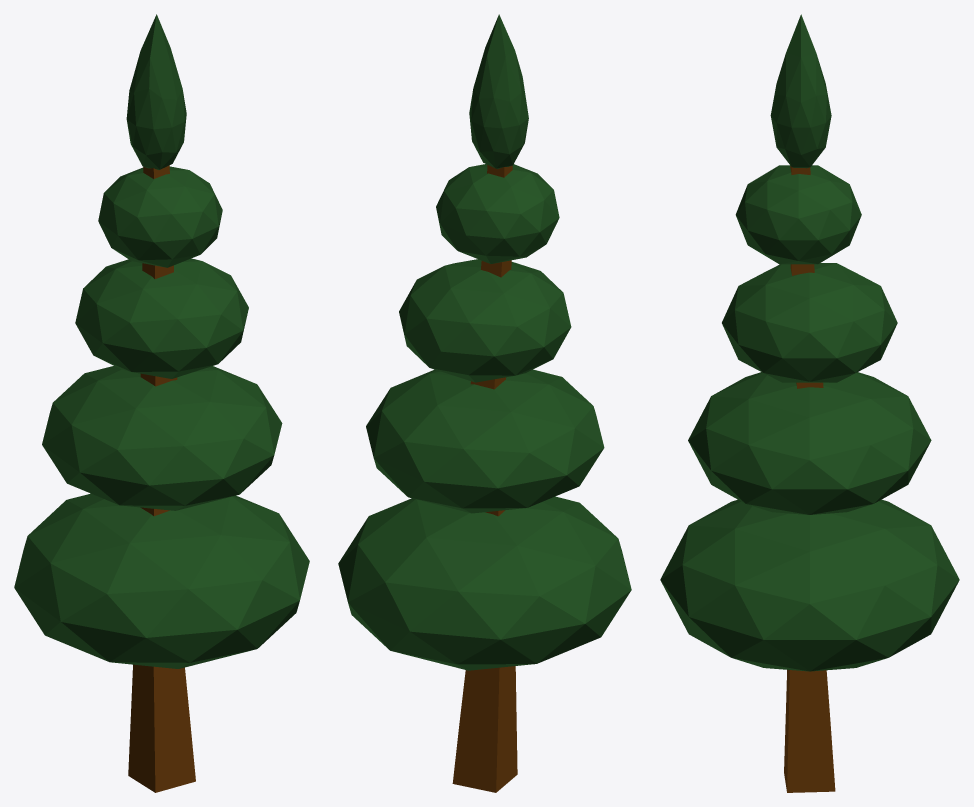
The model's file is TreeC1.fbx.
3 views of the same model, side by side, from view 1: azimuth 30°, elevation 25°; view 2: azimuth 150°, elevation 25°; view 3: azimuth 270°, elevation 25° (orthographic).
Parts seen in each view (by area): view 1: TreeC1; view 2: TreeC1; view 3: TreeC1.
Part boxes in pixels (x1,y1,x2,y2): TreeC1: [14, 14, 309, 792]; TreeC1: [338, 14, 631, 792]; TreeC1: [660, 14, 959, 792].
Size of the model in its own units: 1071 by 1018 by 3010.
